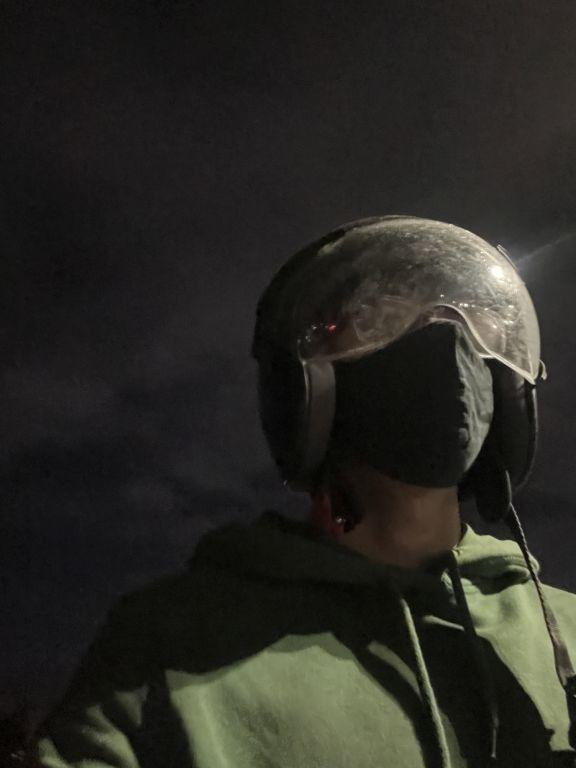helmet: (255, 194, 549, 518)
